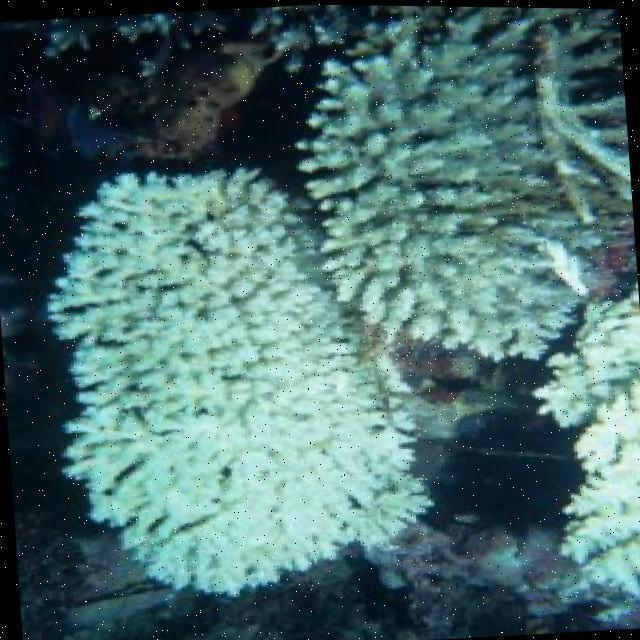Bleached Coral: (26, 151, 403, 628), (295, 4, 629, 383), (526, 310, 640, 632)
